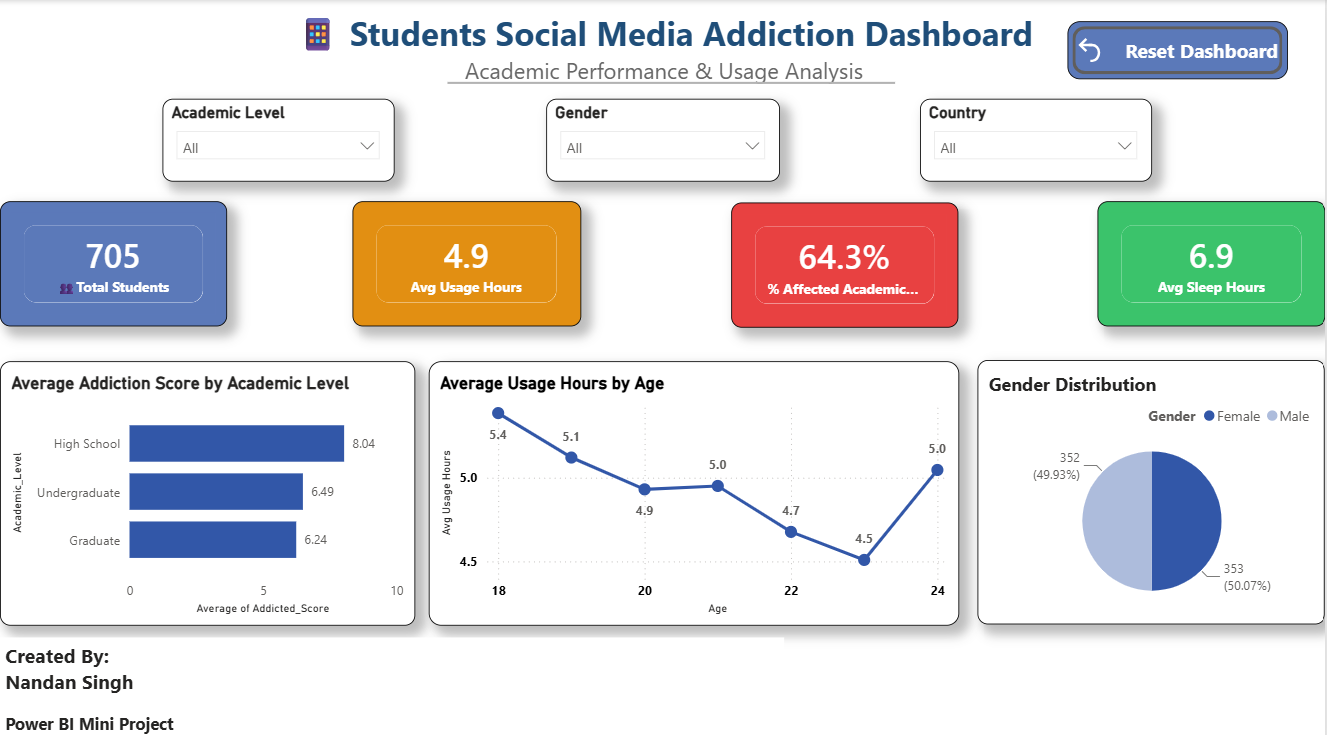

What the dashboard file says about the page in this screenshot:
{"tool":"powerbi","page":{"name":"Executive Overview","canvas":[1280,720],"ordinal":0},"visuals":[{"type":"cardVisual","fields":{"Data":["_Measures.%_Affected_Academically"]},"box":[705.6,195.3,219.5,121.2],"z":0},{"type":"cardVisual","fields":{"Data":["_Measures.Total_Students"]},"box":[0,193.9,219.5,121.2],"z":1000},{"type":"cardVisual","fields":{"Data":["_Measures.Avg_Usage_Hours"]},"box":[340.7,193.9,220.9,121.2],"z":2000},{"type":"cardVisual","fields":{"Data":["_Measures.Avg_Sleep_Hours"]},"box":[1059.1,193.9,220.9,121.2],"z":3000},{"type":"clusteredBarChart","title":"Average Addiction Score by Academic Level","fields":{"Category":["Student Details.Academic_Level"],"Y":["Avg(Student Details.Addicted_Score)"]},"box":[0,349.2,400.5,255.1],"z":4000},{"type":"lineChart","title":"Average Usage Hours by Age","fields":{"Category":["Student Details.Age"],"Y":["_Measures.Avg_Usage_Hours"]},"box":[413.4,349.2,511.7,255.1],"z":5000},{"type":"pieChart","title":"Gender Distribution","fields":{"Category":["Student Details.Gender"],"Y":["CountNonNull(Platform Details.Student_ID)"]},"box":[943.6,347.8,336.4,255.1],"z":6000},{"type":"textbox","box":[269,0,743.7,94.7],"z":7000},{"type":"shape","box":[432,0,432,160],"z":8000},{"type":"slicer","title":"Academic Level","fields":{"Values":["Student Details.Academic_Level"]},"box":[156.8,95.5,223.8,79.8],"z":9000},{"type":"slicer","title":"Country","fields":{"Values":["Student Details.Country"]},"box":[888,95.5,223.8,79.8],"z":10000},{"type":"slicer","title":"Gender","fields":{"Values":["Student Details.Gender"]},"box":[527.4,95.5,225.2,79.8],"z":11000},{"type":"textbox","box":[0,615.8,756.9,104.1],"z":12000},{"type":"actionButton","box":[1030.5,20.6,212.7,56.3],"z":13001}]}

Visuals, with their boxes in screenshot pixels (x1, y1, x2, y2), scaled from the page's 1280x720 canvas onto the 1327x735 screenshot:
cardVisual - _Measures.%_Affected_Academically: detection(732, 199, 959, 323)
cardVisual - _Measures.Total_Students: detection(0, 198, 228, 322)
cardVisual - _Measures.Avg_Usage_Hours: detection(353, 198, 582, 322)
cardVisual - _Measures.Avg_Sleep_Hours: detection(1098, 198, 1326, 322)
"Average Addiction Score by Academic Level" clusteredBarChart: detection(0, 356, 415, 617)
"Average Usage Hours by Age" lineChart: detection(429, 356, 959, 617)
"Gender Distribution" pieChart: detection(978, 355, 1326, 615)
textbox: detection(279, 0, 1050, 97)
shape: detection(448, 0, 896, 163)
"Academic Level" slicer: detection(163, 97, 395, 179)
"Country" slicer: detection(921, 97, 1153, 179)
"Gender" slicer: detection(547, 97, 780, 179)
textbox: detection(0, 629, 785, 734)
actionButton: detection(1068, 21, 1289, 79)
